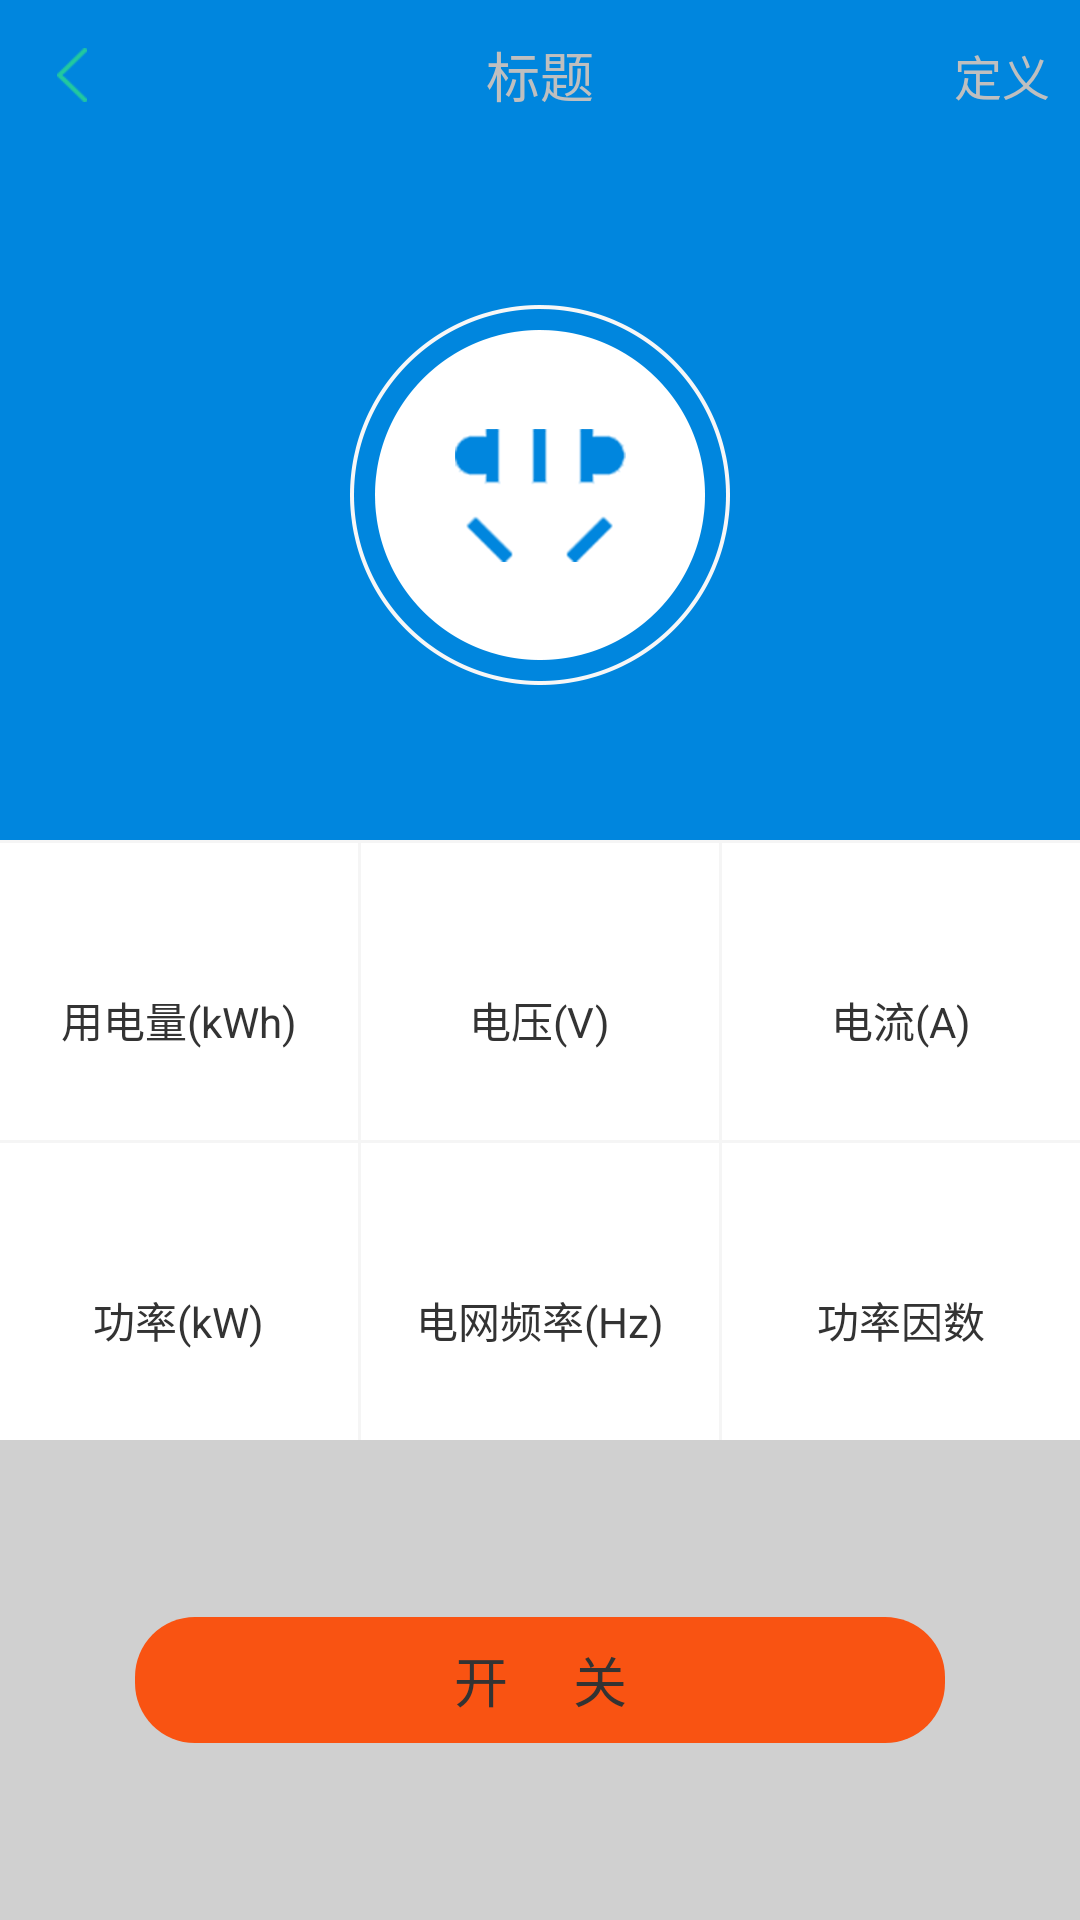

Icon bounding boxes for this 1080 x 1920 phone screenshot, format (x1, y1, x2, y2):
return: (57, 48, 87, 102)
